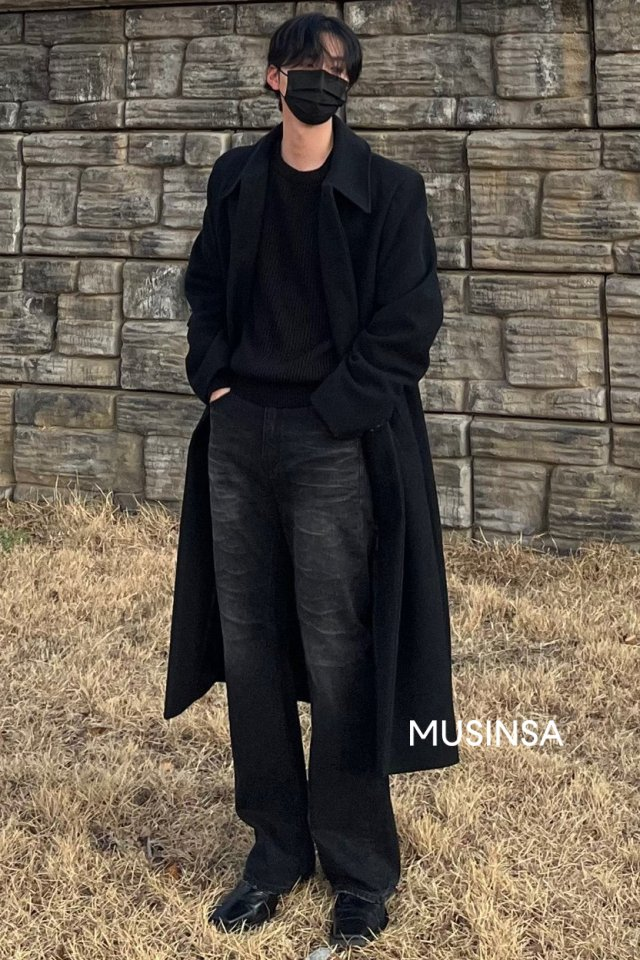Coat: (157, 125, 467, 769)
Jeans: (201, 393, 409, 886)
Mask: (283, 70, 350, 126)
Shoes: (207, 877, 400, 946)
